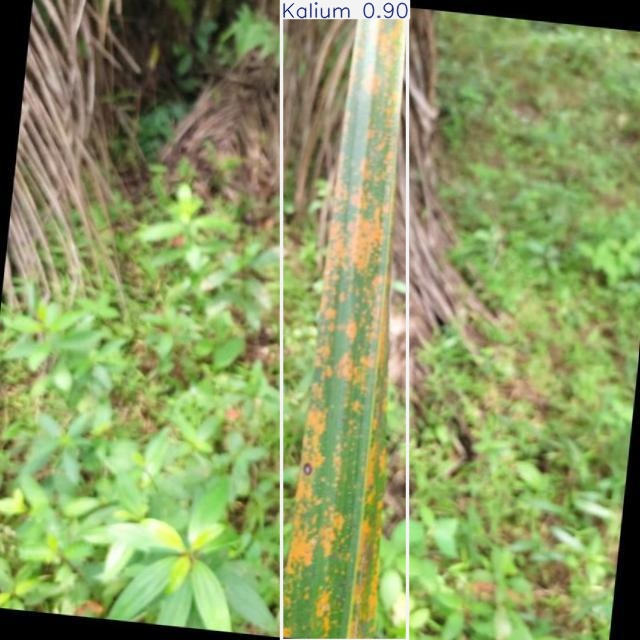Kalium: (281, 1, 408, 640)
